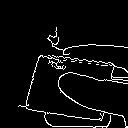cube: (20, 48, 103, 121)
